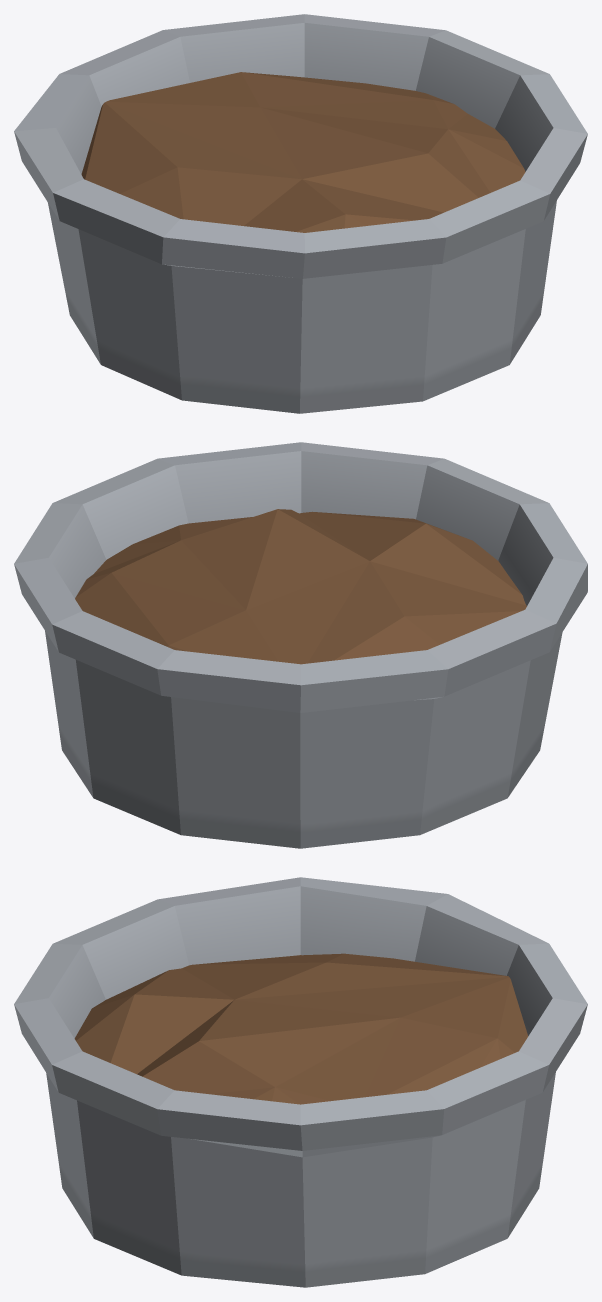
Rendered from SM_Prop_Pot_Large_03.fbx.
The picture shows the model from 3 angles, top to bottom: view 1: azimuth 30°, elevation 25°; view 2: azimuth 150°, elevation 25°; view 3: azimuth 270°, elevation 25°; orthographic projection.
Visible parts, largest first — view 1: SM_Prop_Pot_Large_03, SM_Prop_Pot_Large_Soup_03; view 2: SM_Prop_Pot_Large_03, SM_Prop_Pot_Large_Soup_03; view 3: SM_Prop_Pot_Large_03, SM_Prop_Pot_Large_Soup_03.
Boxes of the visible parts, x1,y1,x2,y2 form: SM_Prop_Pot_Large_03: [14, 14, 587, 413]; SM_Prop_Pot_Large_Soup_03: [81, 72, 525, 232]; SM_Prop_Pot_Large_03: [14, 442, 587, 848]; SM_Prop_Pot_Large_Soup_03: [75, 509, 526, 664]; SM_Prop_Pot_Large_03: [14, 877, 587, 1287]; SM_Prop_Pot_Large_Soup_03: [74, 953, 528, 1104].
Size of the model in its own units: 134 by 49.13 by 133.
